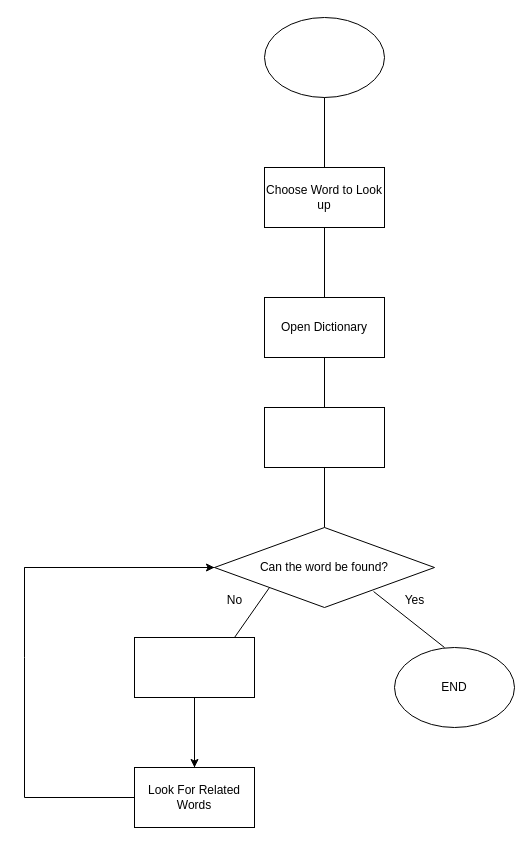
Some shapes in this 532 by 845 pixel diagram are drawn without their labels. The centre of each missing label's shape, as x and y in pixels:
"Check Spelling" belongs at point 194,667.
"Search For Word" belongs at point 324,437.
"START" belongs at point 324,57.
